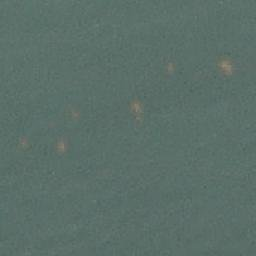debris: (219, 58, 231, 75), (131, 102, 141, 115), (58, 139, 67, 152), (18, 135, 27, 146), (168, 64, 175, 76)
